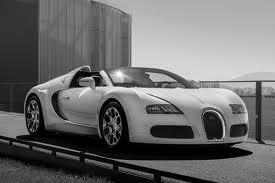car: (25, 67, 250, 152)
